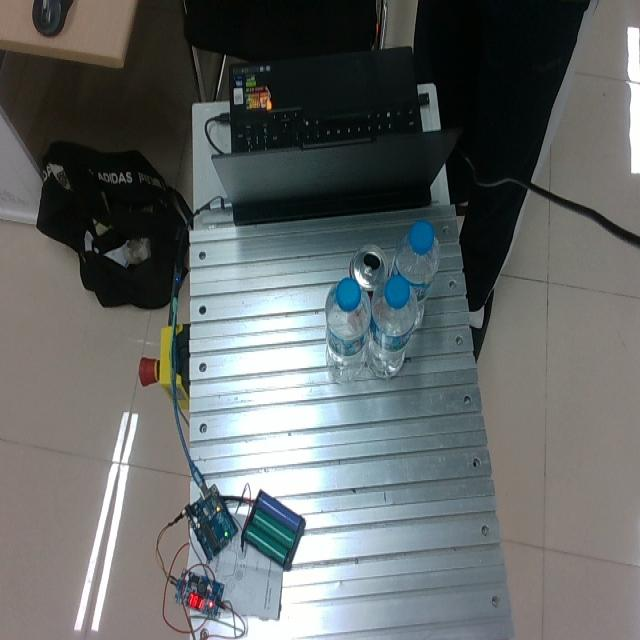coca: (348, 243, 389, 300)
lavie: (366, 273, 419, 379), (389, 221, 440, 331), (323, 277, 371, 380)
